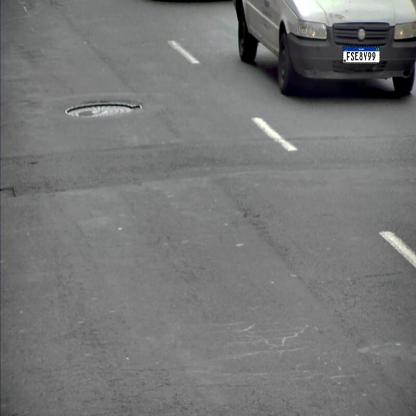PlacaM: (343, 47, 380, 63)
